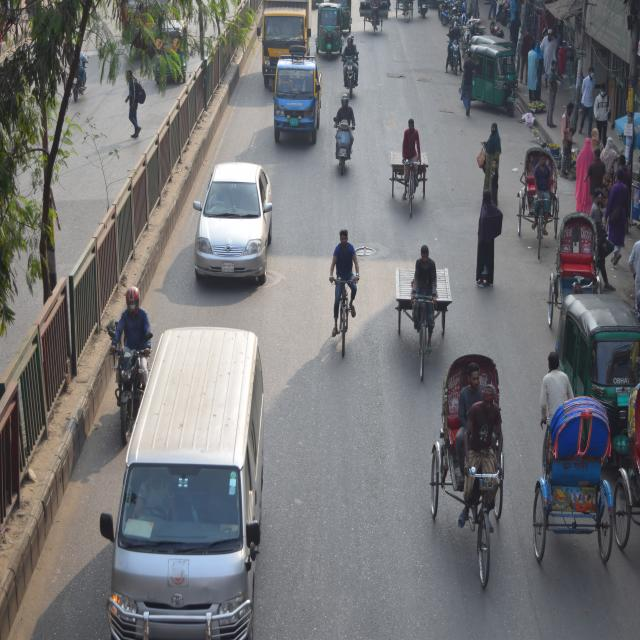car: (193, 156, 273, 288)
microbus: (98, 324, 278, 640)
motorbike: (105, 305, 144, 428), (323, 94, 358, 174), (340, 34, 360, 104), (444, 20, 464, 74)
pickup-van: (273, 59, 320, 144), (264, 0, 306, 69)
